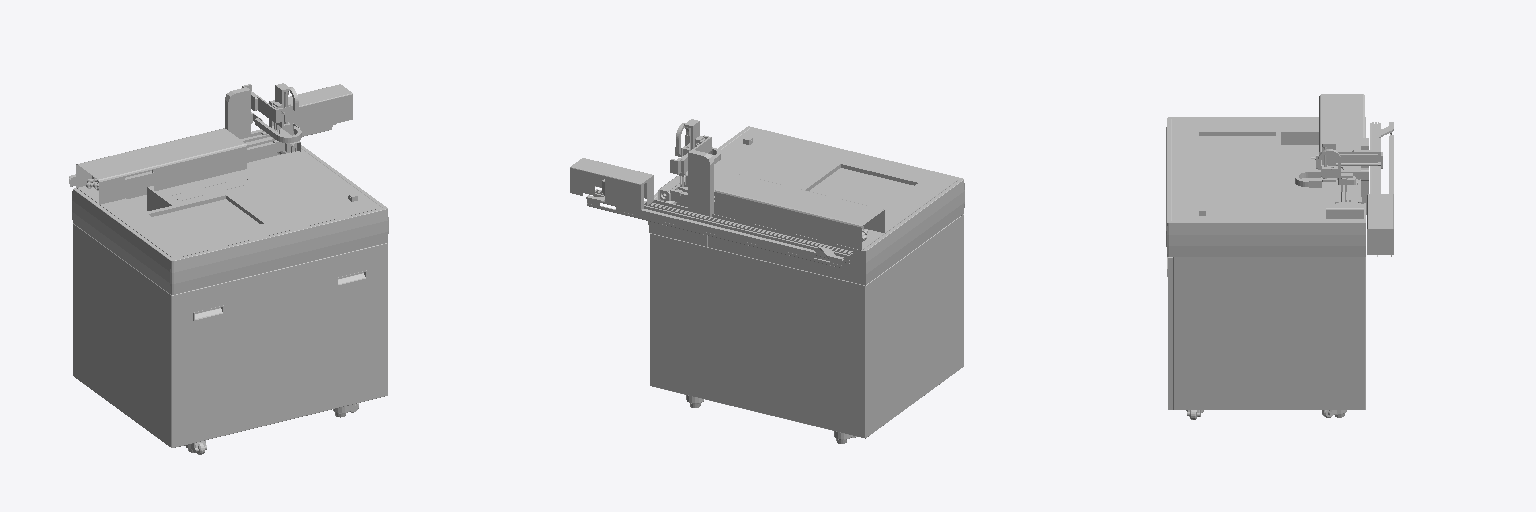
The model's file is Bulk Input.obj.
The picture shows the model from 3 angles: view 1: azimuth 30°, elevation 25°; view 2: azimuth 150°, elevation 25°; view 3: azimuth 270°, elevation 25°; orthographic projection.
Visible parts, largest first — view 1: object78, object80, object22, object1, object11, object71, object40, object73, object79; view 2: object78, object80, object22, object77, object11, object71, object1; view 3: object78, object80, object1, object22, object11, object71, object77, object73, object12.
Boxes of the visible parts, x1,y1,x2,y2 form: object78: [73, 223, 387, 447]; object80: [72, 145, 388, 294]; object22: [76, 128, 246, 204]; object1: [153, 199, 259, 241]; object11: [269, 84, 352, 134]; object71: [225, 83, 291, 162]; object40: [173, 178, 251, 200]; object73: [255, 87, 301, 142]; object79: [193, 270, 366, 320]; object78: [650, 214, 963, 438]; object80: [648, 126, 964, 285]; object22: [715, 174, 884, 249]; object77: [586, 189, 853, 267]; object11: [570, 158, 653, 209]; object71: [670, 119, 713, 246]; object1: [810, 168, 913, 208]; object78: [1168, 257, 1365, 409]; object80: [1166, 117, 1365, 256]; object1: [1199, 136, 1275, 169]; object22: [1319, 94, 1364, 166]; object11: [1367, 194, 1393, 254]; object71: [1316, 138, 1382, 214]; object77: [1370, 122, 1393, 256]; object73: [1295, 149, 1355, 186]; object12: [1326, 204, 1363, 218].
Bounding box in the file's own units: 58.43 × 54.89 × 40.75.